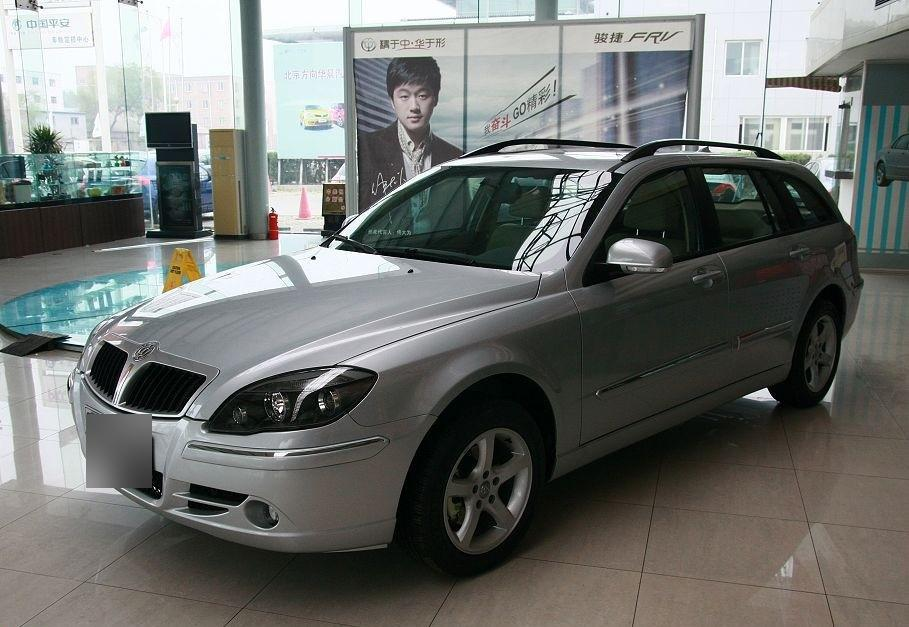Wagon: (67, 138, 866, 580)
